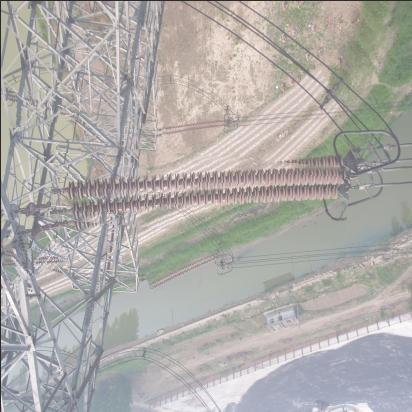insulator: (51, 149, 349, 239), (3, 88, 78, 127), (1, 243, 66, 281), (147, 257, 223, 287), (162, 120, 229, 138)
